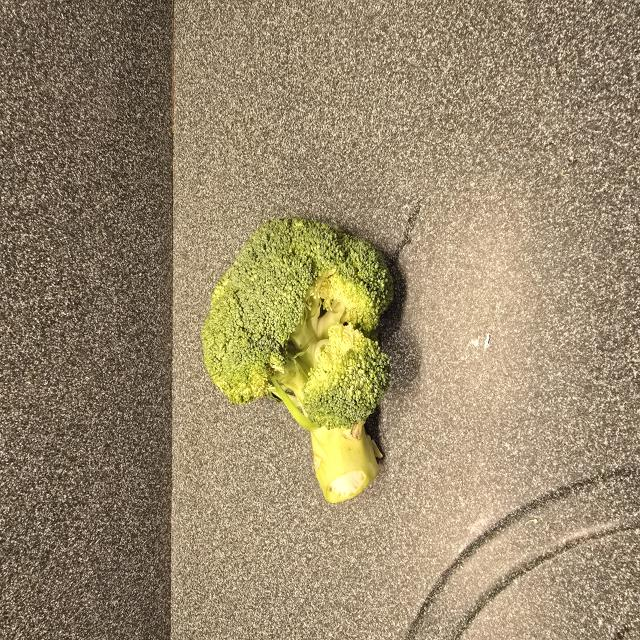Broccoli: (202, 212, 396, 506)
